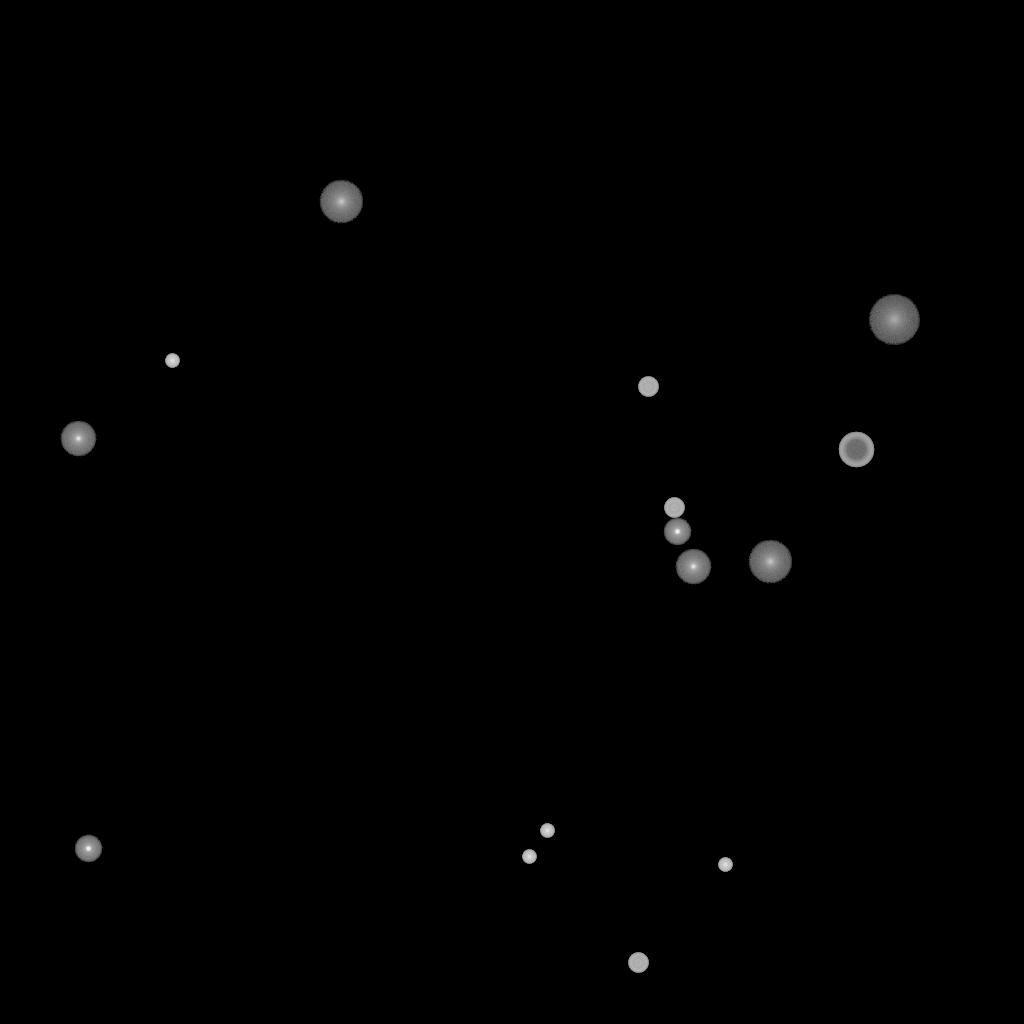depth:-10: (74, 835, 102, 863), (663, 518, 691, 546)
depth:-30: (522, 850, 536, 864), (718, 858, 732, 872), (540, 824, 554, 838), (165, 354, 179, 368)
depth:-40: (638, 377, 658, 397), (664, 498, 684, 518), (628, 953, 648, 973)
depth:-60: (838, 432, 874, 468)
depth:0: (675, 549, 711, 585), (60, 421, 96, 457)
depth:10: (319, 180, 363, 224), (748, 540, 792, 584)
depth:20: (868, 295, 920, 345)
